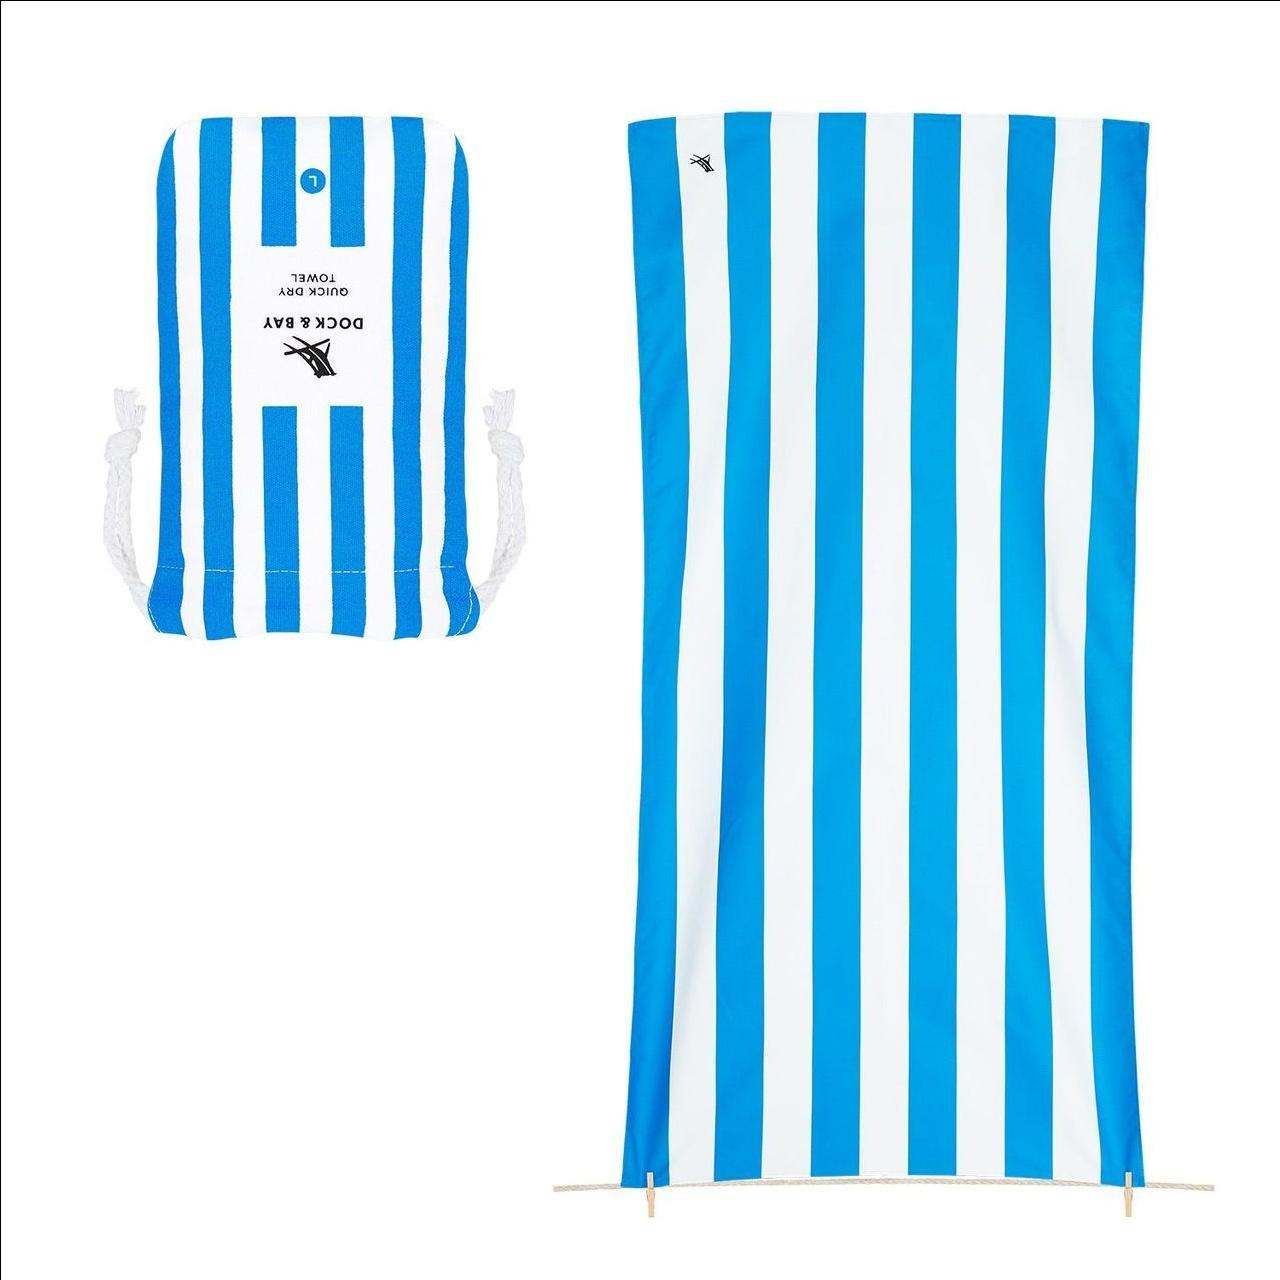towel: (607, 76, 1253, 1240)
